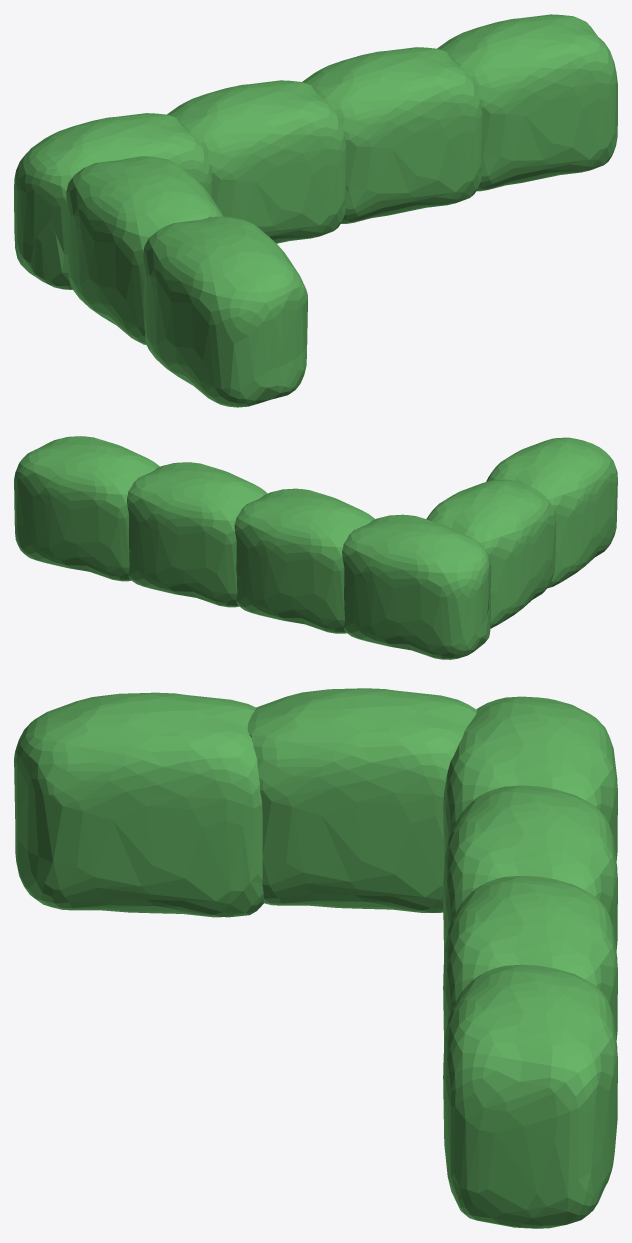
File: arbusto4LargosEsquinaAltos.glb
3 renders of one model, top to bottom at view 1: azimuth 30°, elevation 25°; view 2: azimuth 150°, elevation 25°; view 3: azimuth 270°, elevation 25°, orthographic. The views are drawn at different scales.
Parts seen in each view (by area): view 1: Icosphere.006; view 2: Icosphere.006; view 3: Icosphere.006.
Boxes of the visible parts, x1,y1,x2,y2 form: Icosphere.006: (14, 14, 617, 407); Icosphere.006: (14, 436, 617, 659); Icosphere.006: (14, 688, 617, 1228).
Size of the model in its own units: 2.37 by 0.5758 by 1.58.
